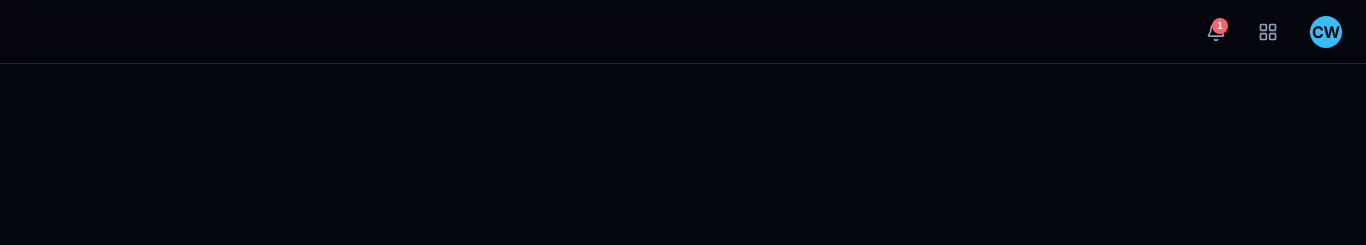
Test: AppBar › toggles the notifications dropdown menu on click
Expected: the text "Notifications" is not shown
# Click notifications trigger button
Click the button named "Notifications" at (1216, 32), box x1=1198 y1=14 x2=1234 y2=50
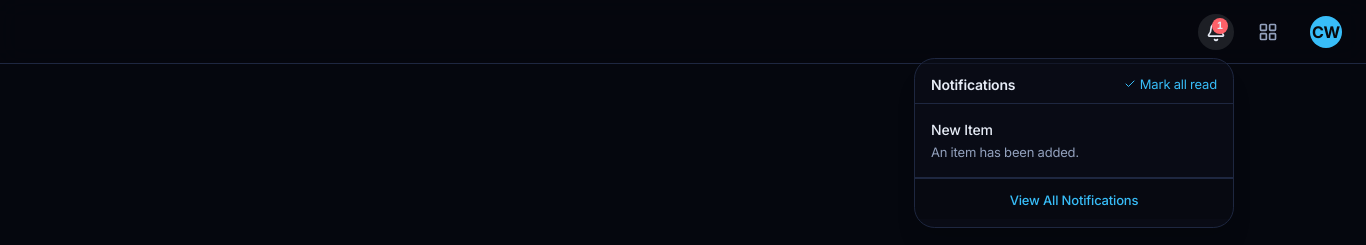
Now the text "Notifications" is shown, box x1=931 y1=74 x2=1015 y2=94
Now the text "New Item" is shown, box x1=931 y1=120 x2=993 y2=138
